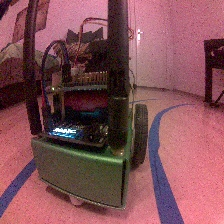rob: (30, 38, 150, 211)
